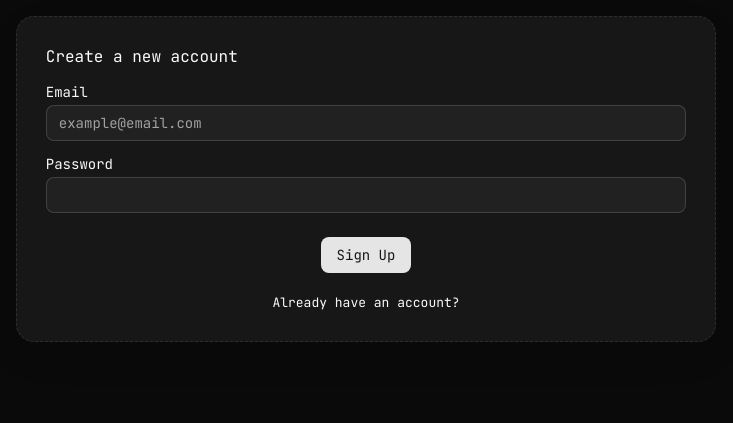
Test case: CreateUser Component › successfully creates a user and displays success message
Type "newuser@example.com" into the field labelled "Email". click: [366, 123]
box: [46,105,686,141]
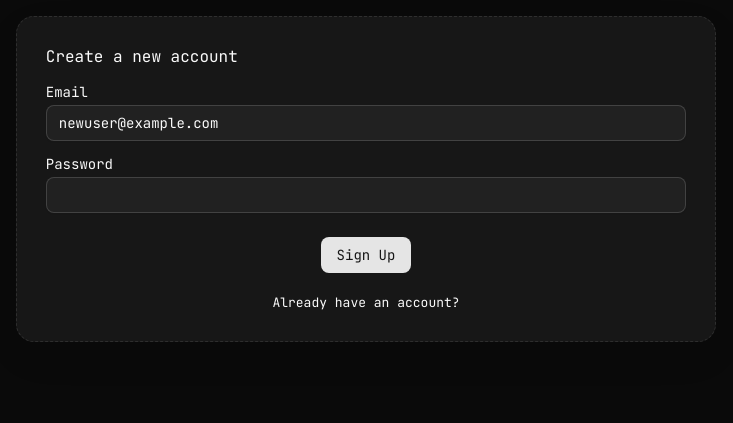
Type "longenoughpassword" into the password field labelled "Password". click: [366, 194]
box: [46,176,686,212]
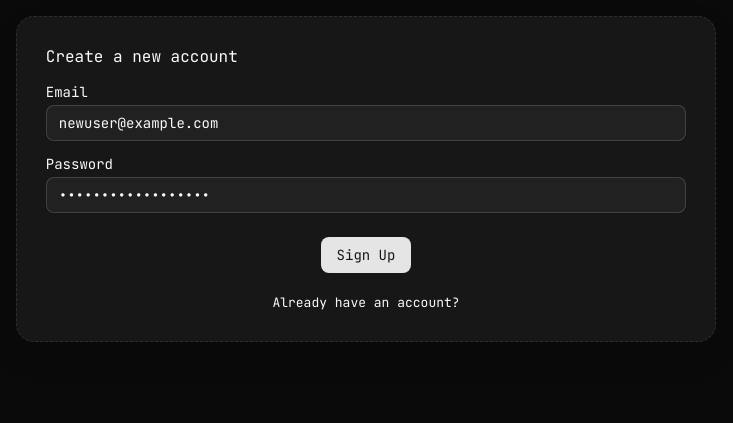
Click the button "Sign Up". click: [366, 254]
box: [321,236,411,272]
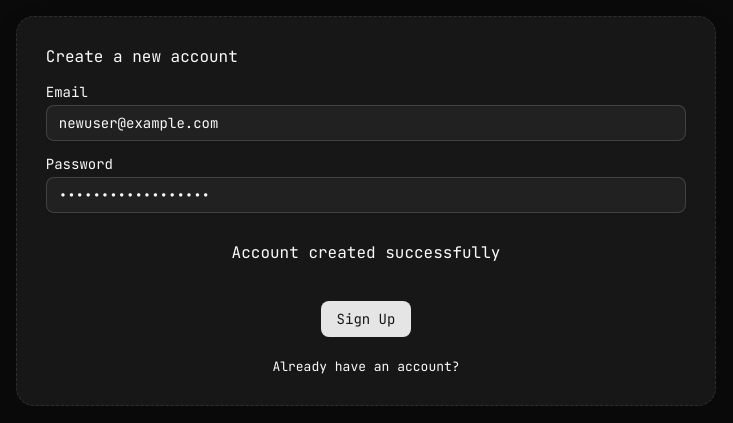
Now the text "Account created successfully" is shown, box [232,240,500,264]
